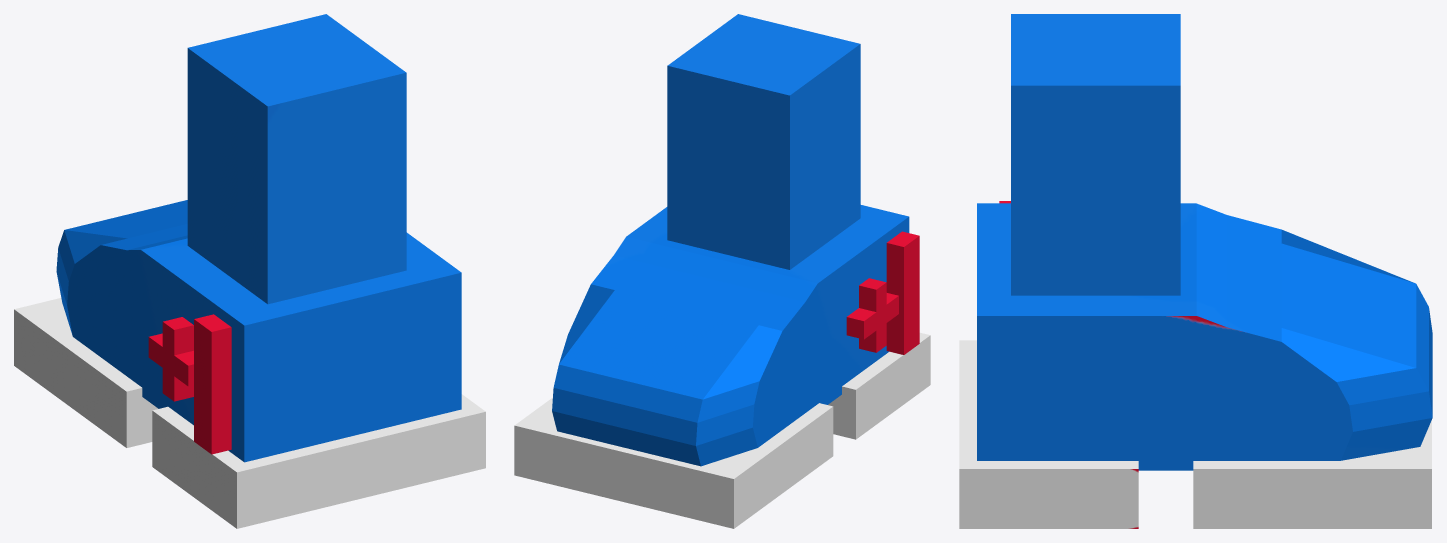
File: JumpItem.obj
The picture shows the model from 3 angles, left to right: view 1: azimuth 30°, elevation 25°; view 2: azimuth 150°, elevation 25°; view 3: azimuth 270°, elevation 25°; orthographic projection. The views are drawn at different scales.
Parts seen in each view (by area): view 1: 立方体.003; view 2: 立方体.003; view 3: 立方体.003.
Part boxes in pixels (x1=…): 立方体.003: x1=14, y1=14, x2=485, y2=528; 立方体.003: x1=514, y1=14, x2=930, y2=528; 立方体.003: x1=959, y1=14, x2=1432, y2=528.
Size of the model in its own units: 0.6965 by 1.02 by 1.05.
